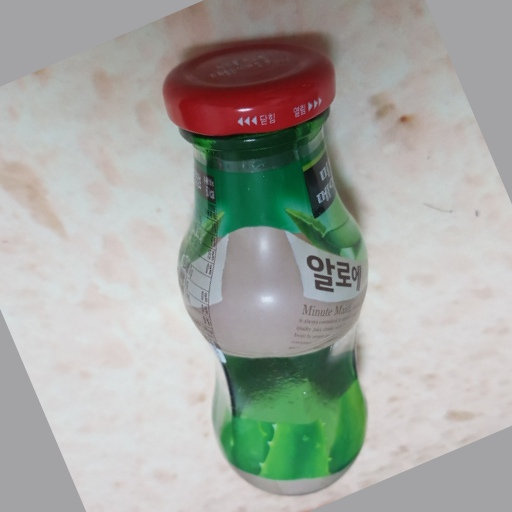Glass_4: (158, 40, 376, 498)
